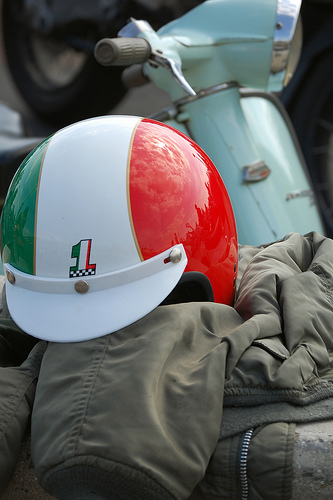helmet: (8, 124, 240, 307)
